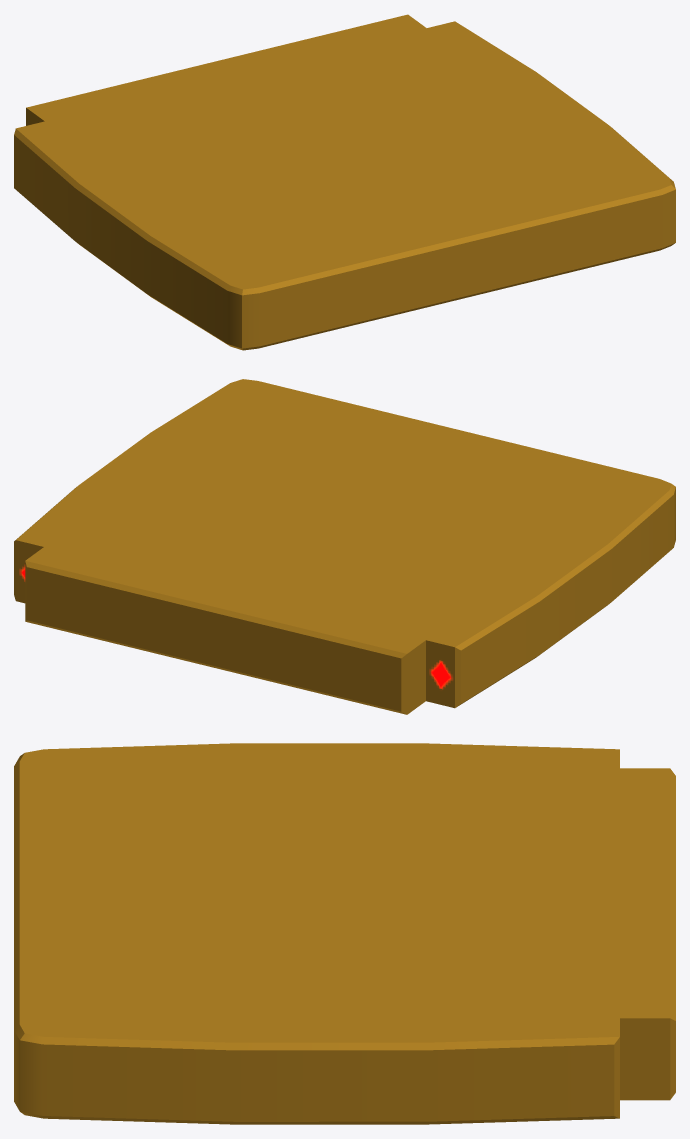
Rendered from chairSeat.glb.
3 views of the same model, one above another, from view 1: azimuth 30°, elevation 25°; view 2: azimuth 150°, elevation 25°; view 3: azimuth 270°, elevation 25° (orthographic). The views are drawn at different scales.
Parts seen in each view (by area): view 1: seat; view 2: seat; view 3: seat.
Part boxes in pixels (bbox=[...]): seat: bbox=[14, 14, 675, 350]; seat: bbox=[14, 379, 675, 714]; seat: bbox=[14, 743, 675, 1124].
Size of the model in its own units: 0.4078 by 0.0512 by 0.375.
1 material, 1 textured.
